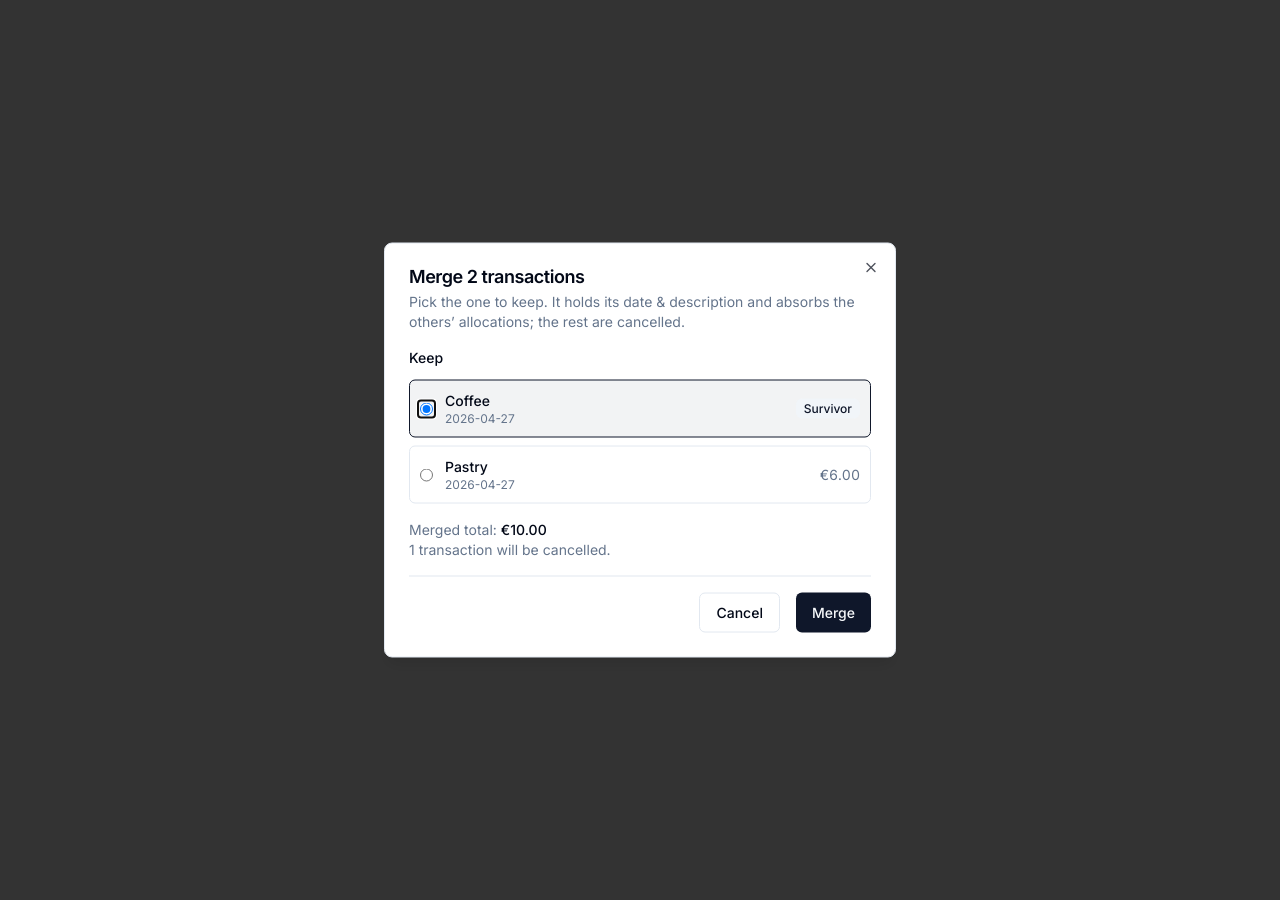
Test: MergeTransactionsDialog › surfaces a server error without closing
Click the button "Merge" at (834, 612), box [796,592,871,632]
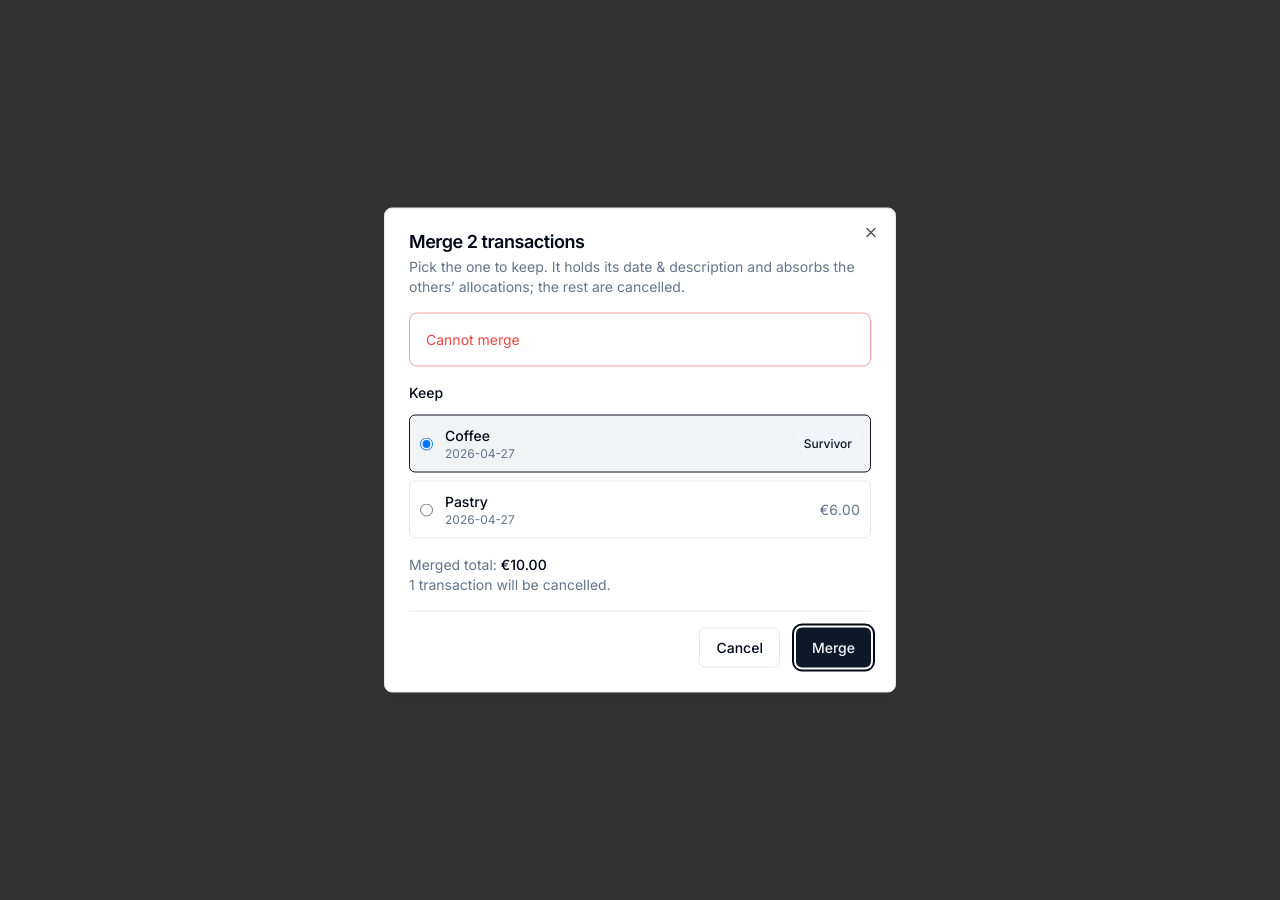
Expected: the button "Merge" is shown, [796,628,871,668]
Expected: the message reads "Cannot merge", [426,330,520,348]
